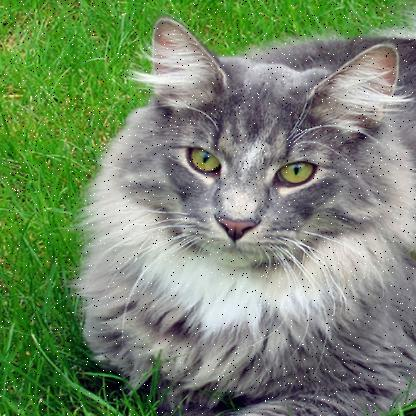cat: (70, 8, 415, 415)
